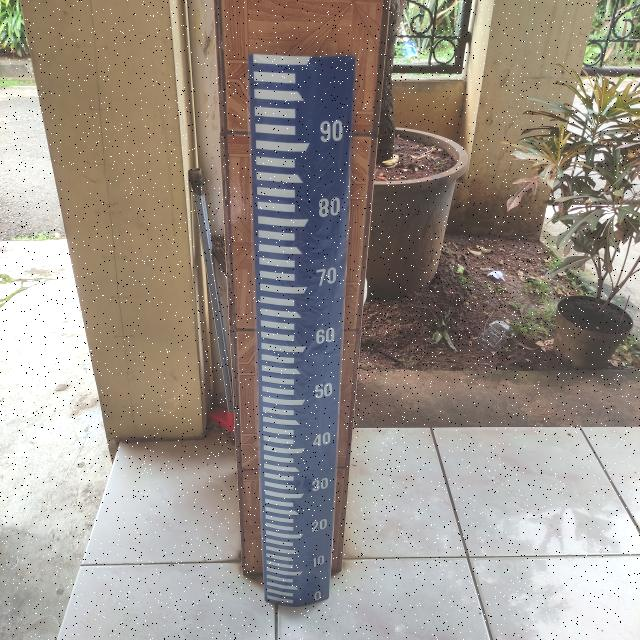10: (311, 553, 327, 568)
20: (309, 517, 330, 535)
30: (309, 474, 330, 494)
40: (310, 430, 332, 449)
50: (312, 382, 333, 399)
60: (315, 326, 335, 346)
70: (314, 266, 340, 291)
80: (316, 195, 346, 221)
90: (315, 115, 346, 149)
staff: (248, 54, 354, 606)
